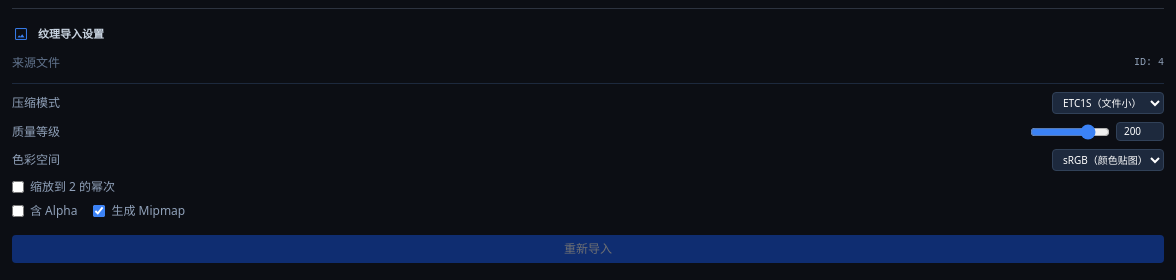
TextureImportProp › 修改压缩模式后 isDirty badge 出现，按钮可用
Select "UASTC（质量高）" in the dropdown showing "ETC1S（文件小）" in the row of "压缩模式" at (1108, 103), box [1052,92,1164,114]
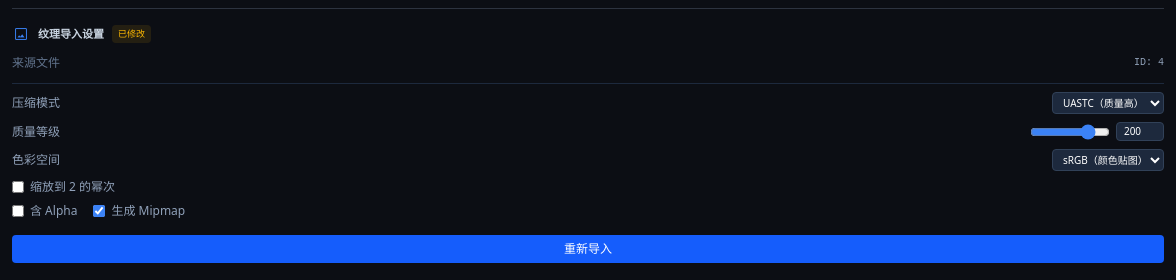
Expected: the text "已修改" is shown, [112,25,151,43]
Expected: the button "重新导入" is enabled, [12,235,1164,263]
